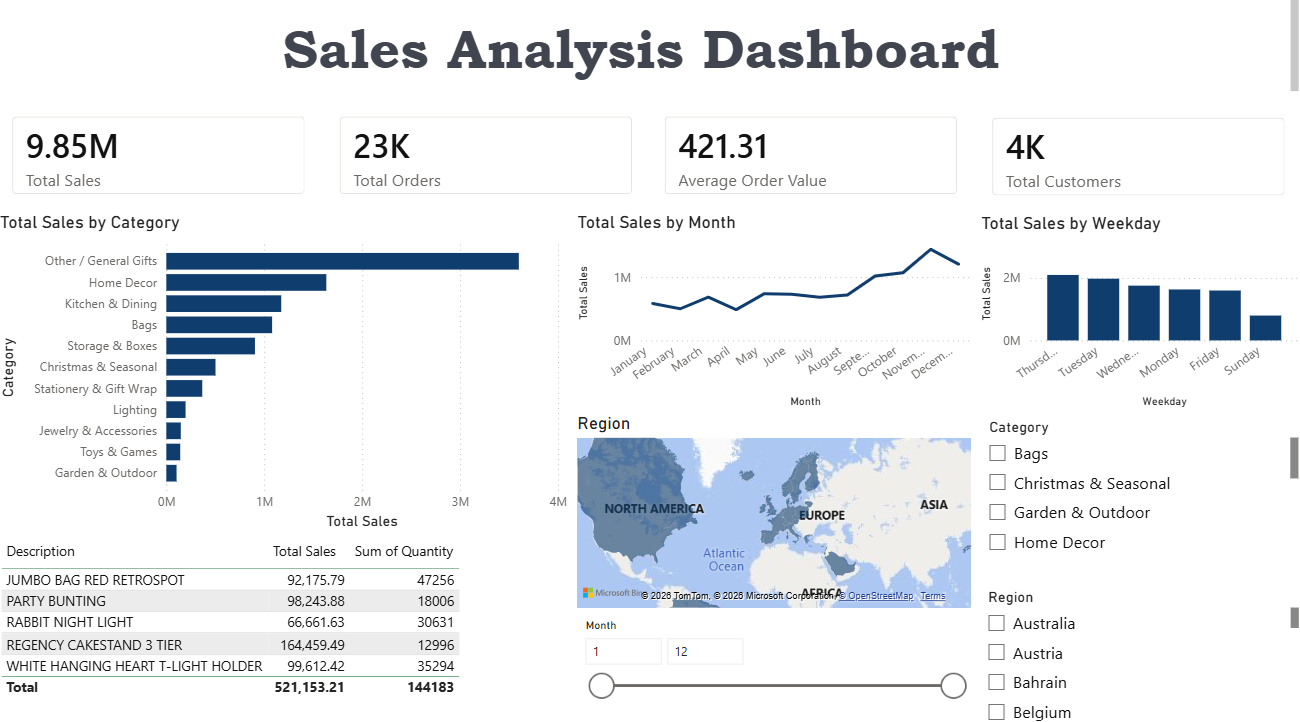

The dashboard page shown, as its layout file describes it:
{"tool":"powerbi","page":{"name":"Page 1","canvas":[1280,720],"ordinal":0},"visuals":[{"type":"cardVisual","fields":{"Data":["Calendar.Total Sales"]},"box":[0,103.9,320.4,110],"z":0},{"type":"cardVisual","fields":{"Data":["Calendar.Total Orders"]},"box":[320.4,104.1,320.4,110],"z":1},{"type":"cardVisual","fields":{"Data":["Calendar.Average Order Value"]},"box":[638.1,104.1,320.4,110],"z":2},{"type":"cardVisual","fields":{"Data":["Calendar.Total Customers"]},"box":[958.5,105.5,320.4,110],"z":3},{"type":"textbox","box":[9.5,0,1270.8,104.1],"z":4},{"type":"lineChart","fields":{"Category":["Clean Data.MonthName.Variation.Date Hierarchy.Month"],"Y":["Calendar.Total Sales"]},"box":[564.9,214,393.8,196.9],"z":5},{"type":"clusteredBarChart","fields":{"Category":["Clean Data.Category"],"Y":["Calendar.Total Sales"]},"box":[0,214,564.9,315.5],"z":6},{"type":"tableEx","fields":{"Values":["Clean Data.Description","Calendar.Total Sales","Sum(Clean Data.Quantity)"]},"box":[0,529.5,564.9,190.8],"z":7},{"type":"filledMap","fields":{"Category":["Clean Data.Region"]},"box":[564.9,410.9,395,195.7],"z":8},{"type":"clusteredColumnChart","fields":{"Category":["Clean Data.Weekday"],"Y":["Calendar.Total Sales"]},"box":[959.9,215.2,320.4,195.7],"z":9},{"type":"slicer","fields":{"Values":["Clean Data.Category"]},"box":[959.9,410.9,320.4,141.8],"z":10},{"type":"slicer","fields":{"Values":["Clean Data.Region"]},"box":[958.7,577.2,321.6,143.1],"z":11},{"type":"slicer","fields":{"Values":["Clean Data.Month"]},"box":[564.9,606.5,393.8,113.7],"z":12}]}

Visuals, with their boxes in screenshot pixels (x1, y1, x2, y2), scaled from the page's 1280x720 canvas onto the 1300x722 screenshot:
cardVisual - Calendar.Total Sales: rect(0, 104, 325, 214)
cardVisual - Calendar.Total Orders: rect(325, 104, 651, 215)
cardVisual - Calendar.Average Order Value: rect(648, 104, 973, 215)
cardVisual - Calendar.Total Customers: rect(973, 106, 1299, 216)
textbox: rect(10, 0, 1299, 104)
lineChart - Clean Data.MonthName.Variation.Date Hierarchy.Month x Calendar.Total Sales: rect(574, 215, 974, 412)
clusteredBarChart - Clean Data.Category x Calendar.Total Sales: rect(0, 215, 574, 531)
tableEx - Clean Data.Description x Calendar.Total Sales: rect(0, 531, 574, 721)
filledMap - Clean Data.Region: rect(574, 412, 975, 608)
clusteredColumnChart - Clean Data.Weekday x Calendar.Total Sales: rect(975, 216, 1299, 412)
slicer - Clean Data.Category: rect(975, 412, 1299, 554)
slicer - Clean Data.Region: rect(974, 579, 1299, 721)
slicer - Clean Data.Month: rect(574, 608, 974, 721)
